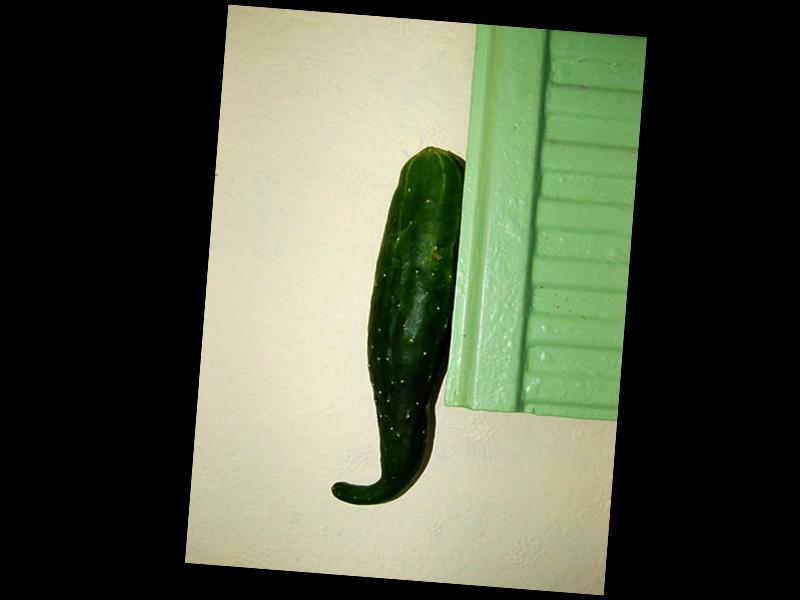Cucumber: (331, 142, 466, 512)
